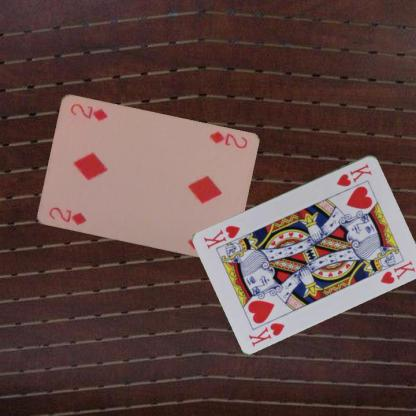2d: (46, 205, 88, 227), (206, 129, 249, 150)
Kh: (245, 320, 286, 347), (334, 160, 373, 188)
